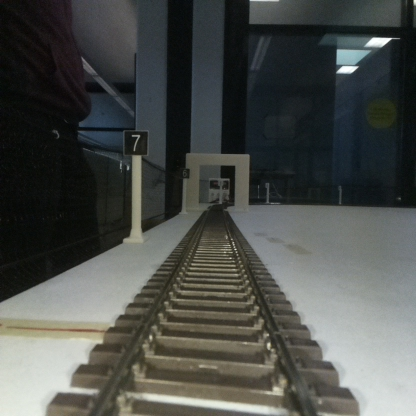black-info-6: (179, 167, 189, 214)
black-info-7: (124, 131, 147, 241)
